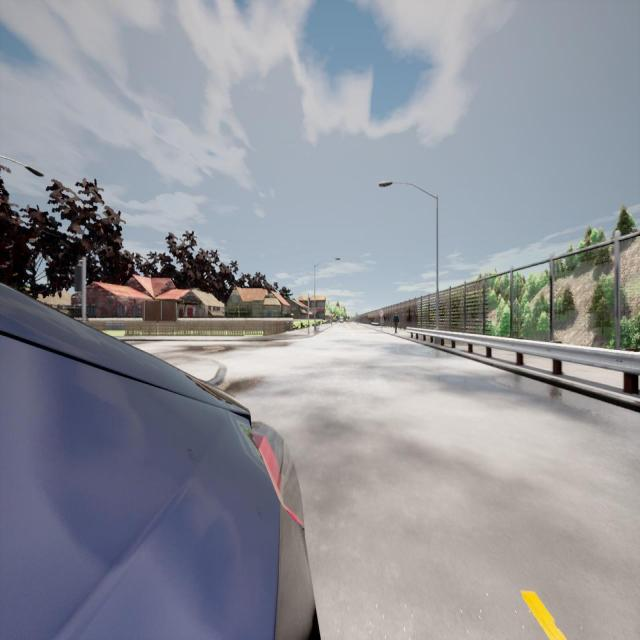Pedestrian: (393, 310, 400, 334)
Traffic_Signs: (379, 310, 384, 316)
Vehicle: (0, 285, 316, 638), (339, 316, 344, 323)
traffic_light: (75, 265, 84, 291), (308, 297, 310, 307)
